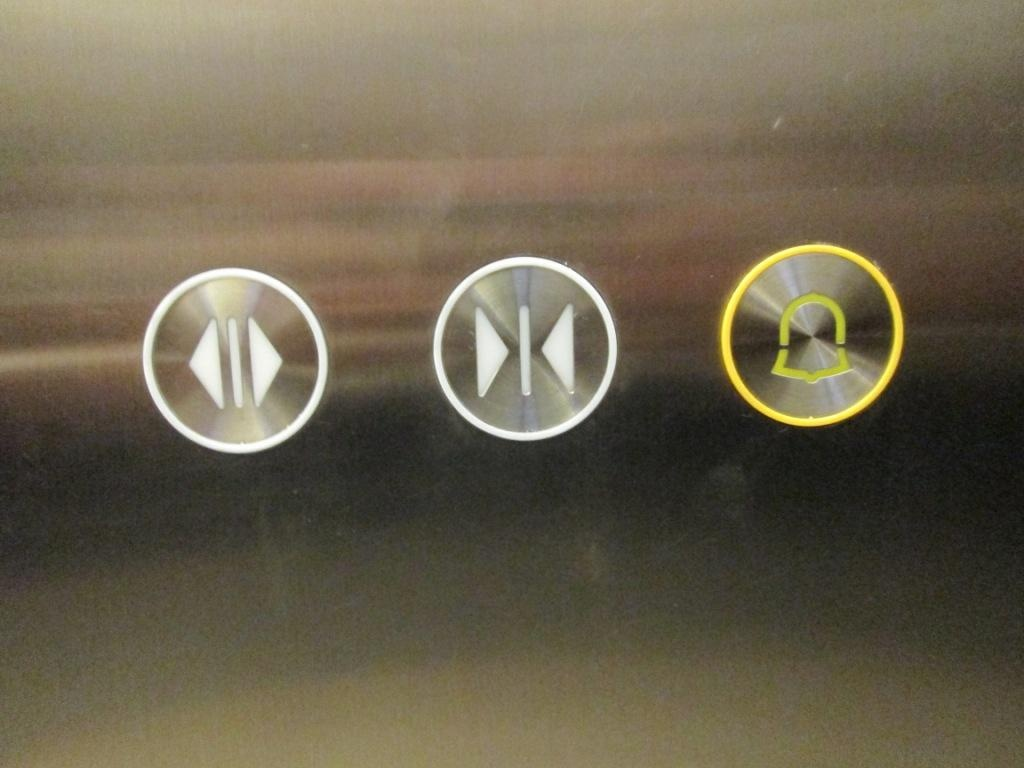alarm: (717, 239, 906, 431)
close: (429, 252, 621, 447)
open: (140, 265, 331, 459)
